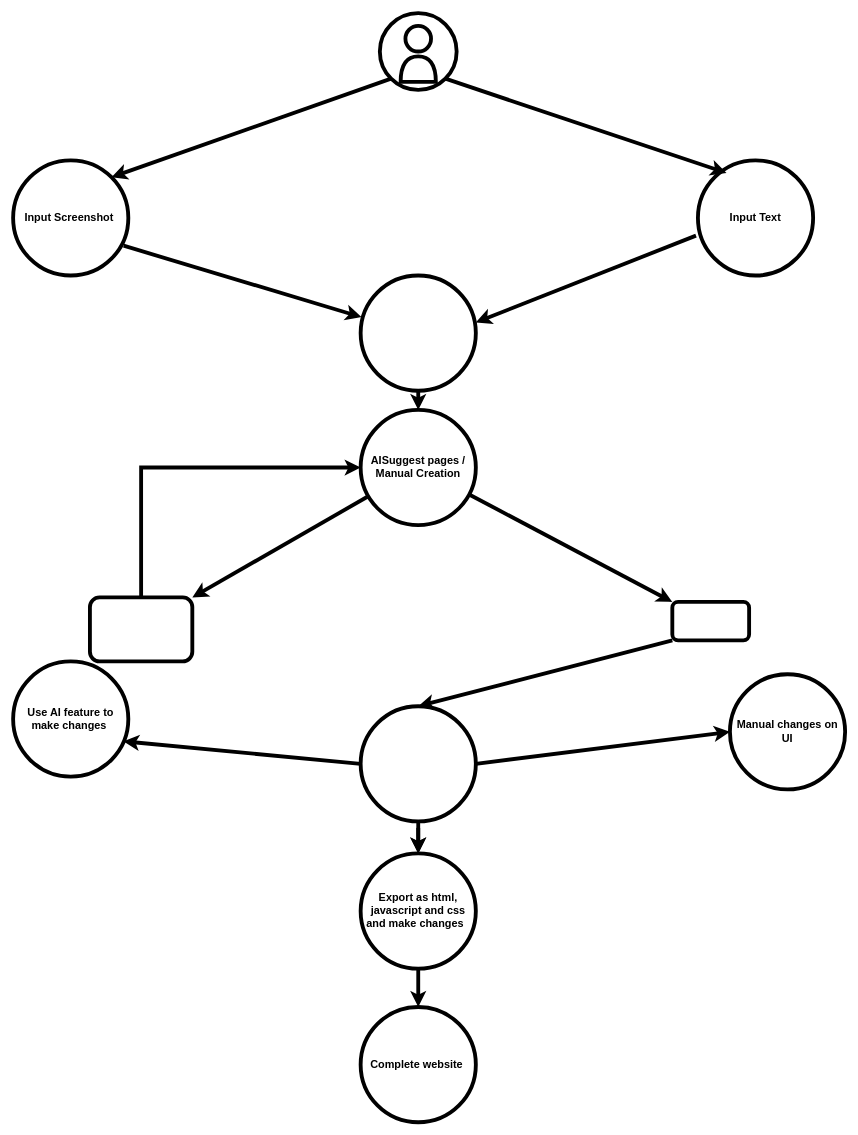
Image size: 858x1135. Some labels were removed from this diagram. Each missing label, with the centre of its shape:
"Done" belongs at (x=710, y=621).
"Initial site" belongs at (x=417, y=763).
"Program generates site" belongs at (x=417, y=332).
"Yes (Choose your pages)" belongs at (x=141, y=629).
